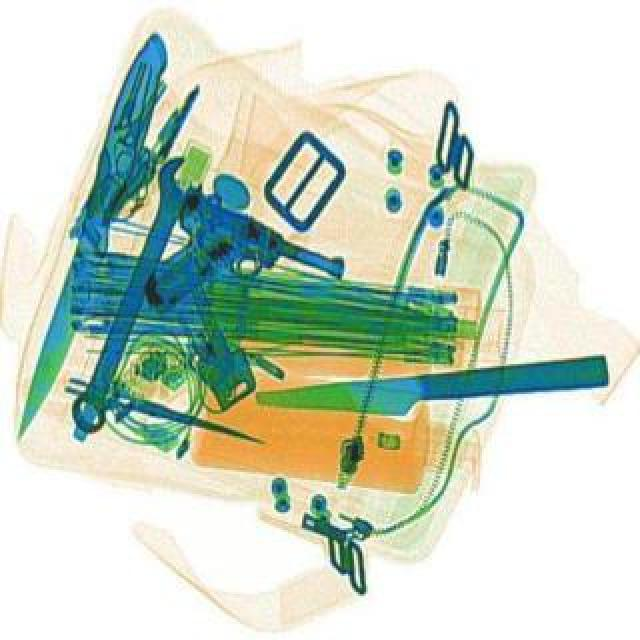gun: (132, 188, 352, 366)
knife: (10, 26, 174, 438), (252, 352, 608, 422), (64, 370, 268, 454)
scissors: (58, 146, 210, 436)
